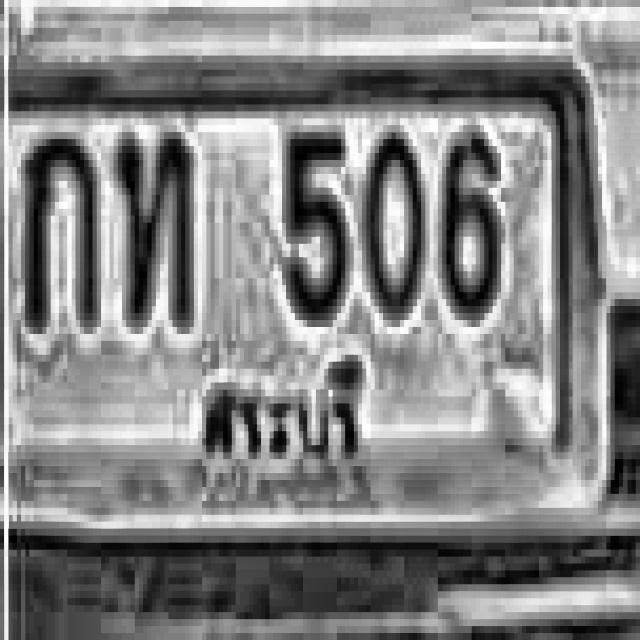license-plate: (8, 61, 616, 523)
